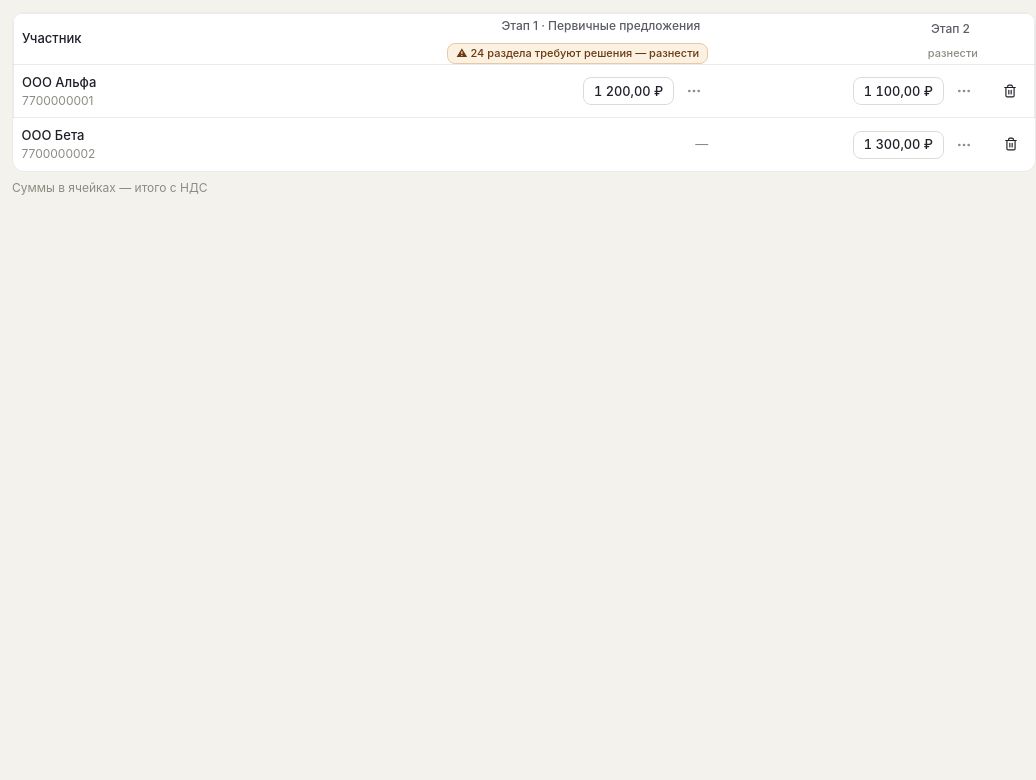
Test case: OfferGrid: меню отметки победителя › пункт «Отметить победителем» подписан КП и этапом и шлёт offer_id этой ячейки
This screenshot has width=1036, height=780.
Click the button named "Действия с КП участника «ООО Бета»". click: (964, 145)
box: [950,131,978,159]
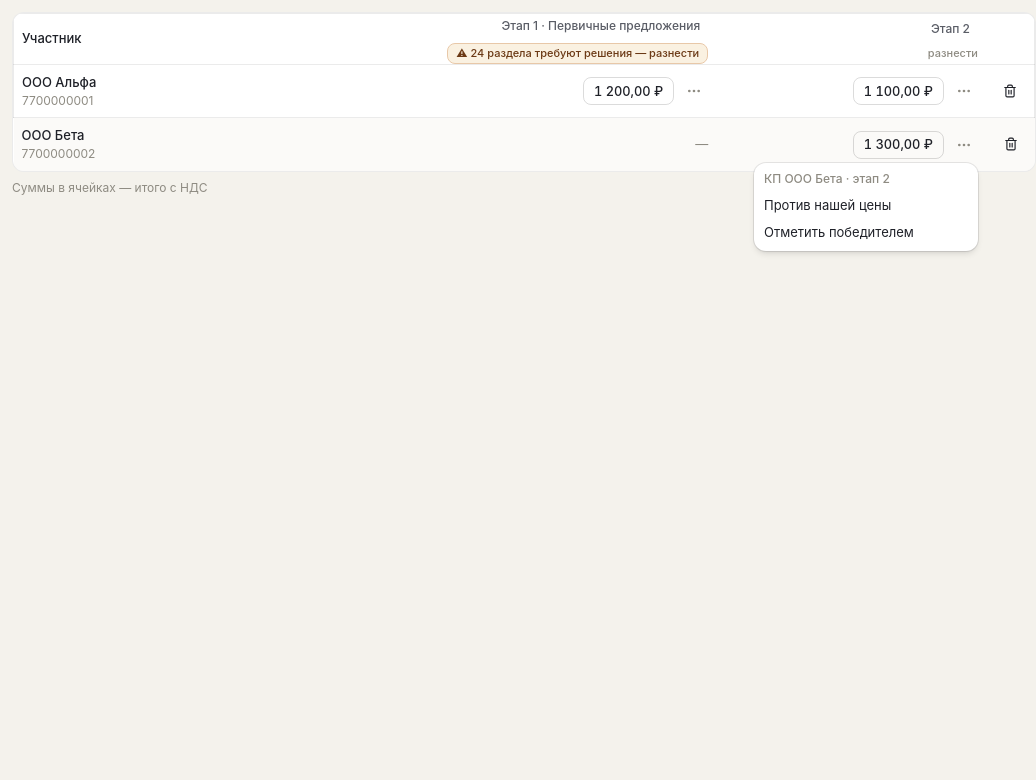
expect the text "КП ООО Бета · этап 2" is shown: met, box [764,171,890,186]
Click the menu item "Отметить победителем". click: (839, 232)
box: [764,224,914,240]
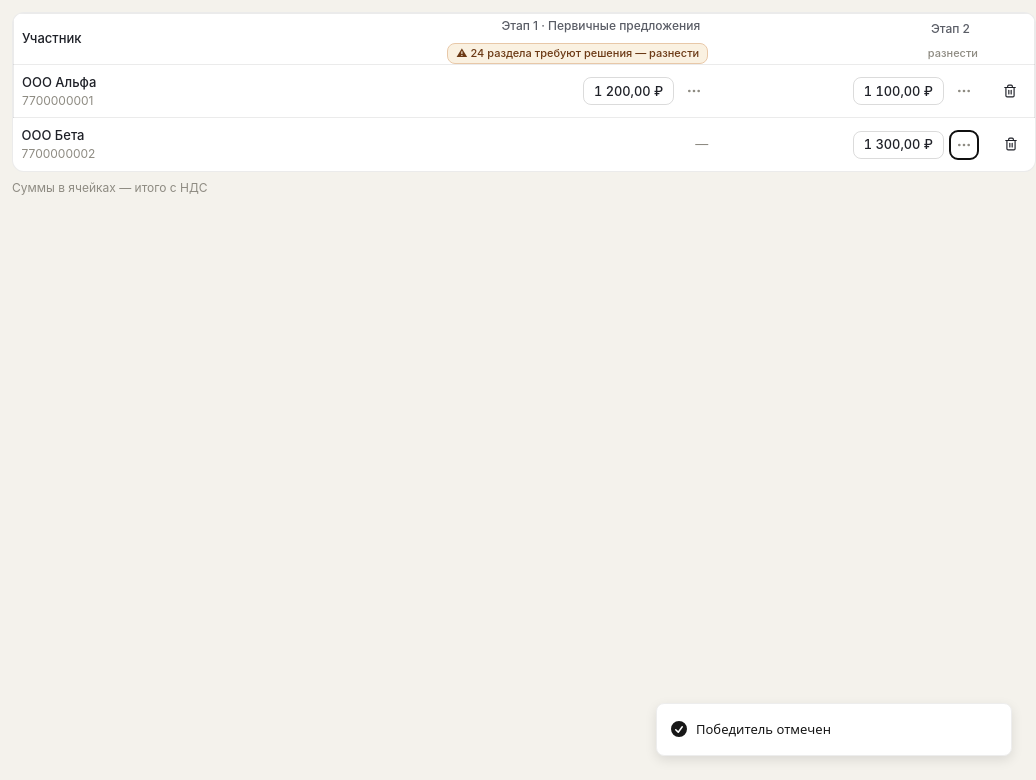
expect the text "Победитель отмечен" is shown: met, box [696,720,831,739]
